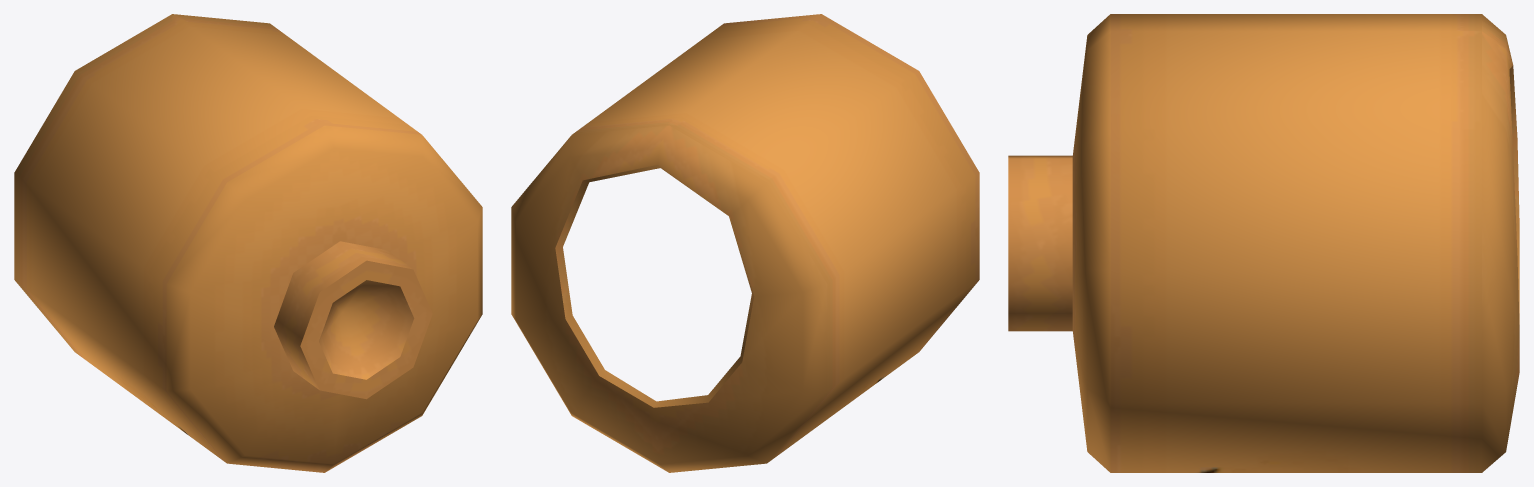
File: constructor.glb
3 renders of one model, left to right at view 1: azimuth 30°, elevation 25°; view 2: azimuth 150°, elevation 25°; view 3: azimuth 270°, elevation 25°, orthographic. The views are drawn at different scales.
Parts seen in each view (by area): view 1: Lego; view 2: Lego; view 3: Lego.
Boxes of the visible parts, bbox=[...] form: Lego: bbox=[14, 14, 482, 472]; Lego: bbox=[511, 14, 979, 472]; Lego: bbox=[1008, 14, 1519, 472].
Bounding box in the file's own units: 0.2587 × 0.272 × 0.2975.
Materials: 1 (1 with a texture image).
